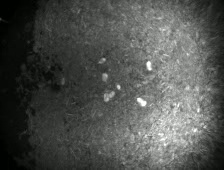corn: (134, 95, 149, 108), (144, 59, 155, 73), (101, 89, 112, 103), (99, 71, 110, 84), (97, 55, 107, 66), (107, 88, 116, 100), (114, 82, 123, 92), (59, 75, 67, 86)
